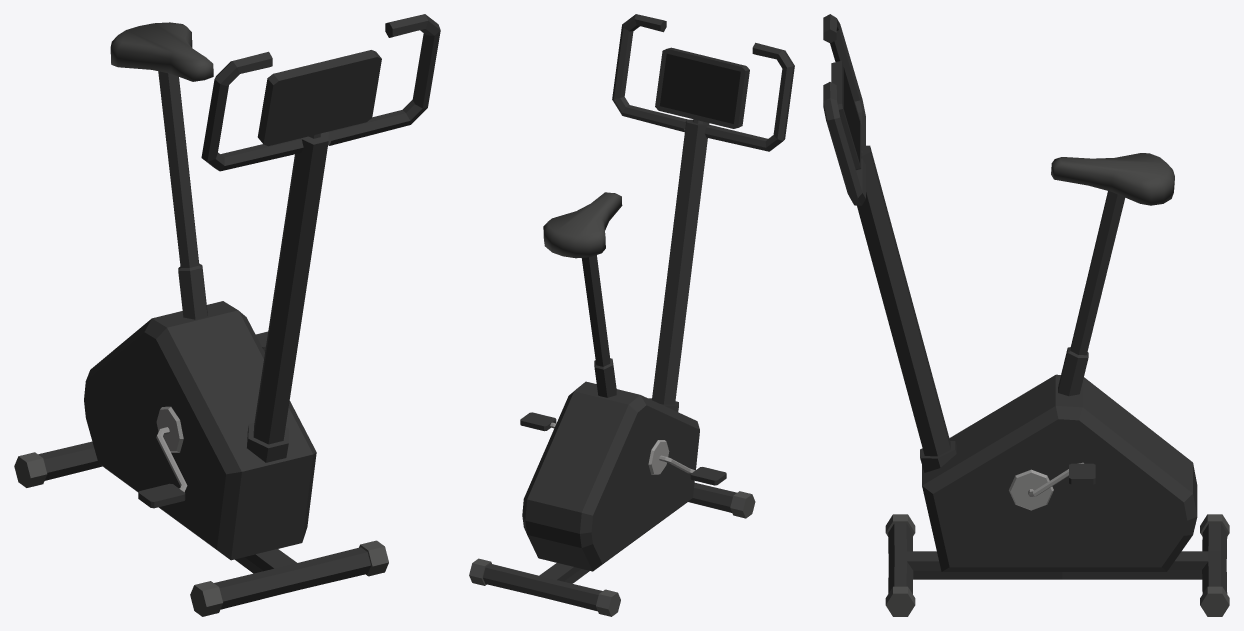
The model's file is SM_Props_Interior_Shop_Gym_Bike.fbx.
3 views of the same model, side by side, from view 1: azimuth 30°, elevation 25°; view 2: azimuth 150°, elevation 25°; view 3: azimuth 270°, elevation 25° (orthographic). The views are drawn at different scales.
Visible parts, largest first — view 1: SM_Props_Interior_Shop_Gym_Bike; view 2: SM_Props_Interior_Shop_Gym_Bike; view 3: SM_Props_Interior_Shop_Gym_Bike.
Part boxes in pixels (x1,y1,x2,y2): SM_Props_Interior_Shop_Gym_Bike: (14,14,440,616); SM_Props_Interior_Shop_Gym_Bike: (469,14,794,616); SM_Props_Interior_Shop_Gym_Bike: (823,14,1229,616).
Bounding box in the file's own units: 48.99 × 122 × 86.08.
